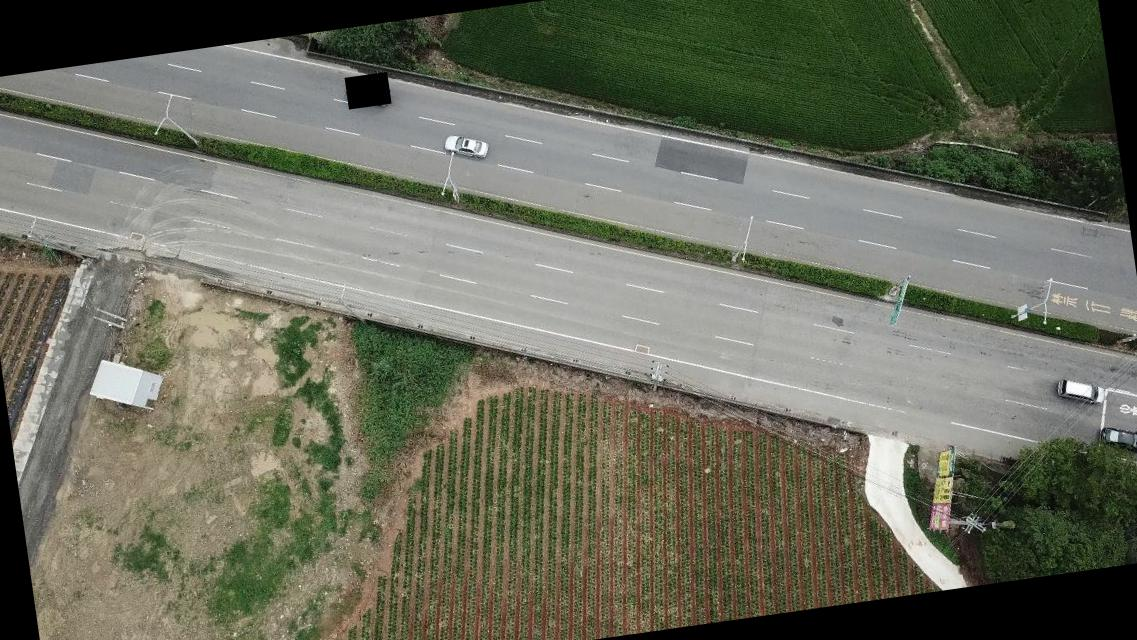vehicle: (1053, 374, 1108, 411), (442, 130, 490, 162), (1098, 421, 1136, 457)
